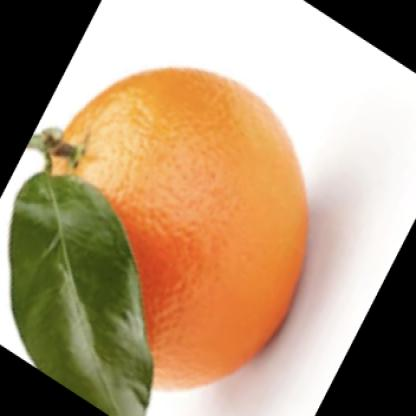fresh: (41, 68, 310, 394)
